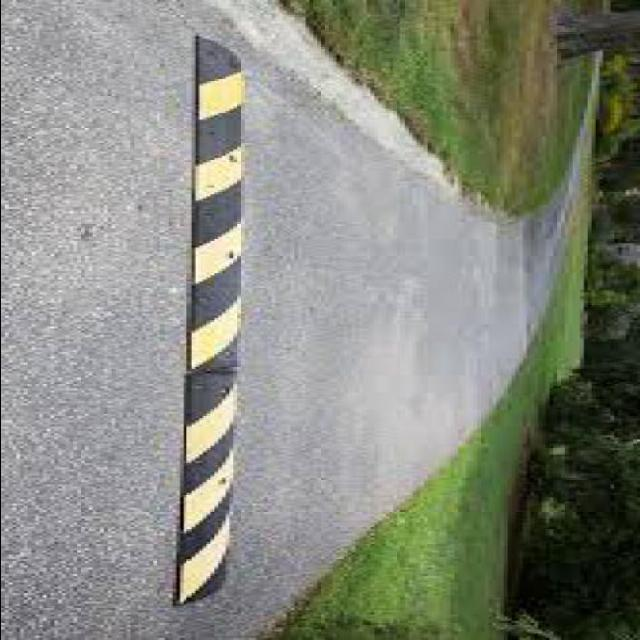speedbreaker: (155, 8, 277, 616)
